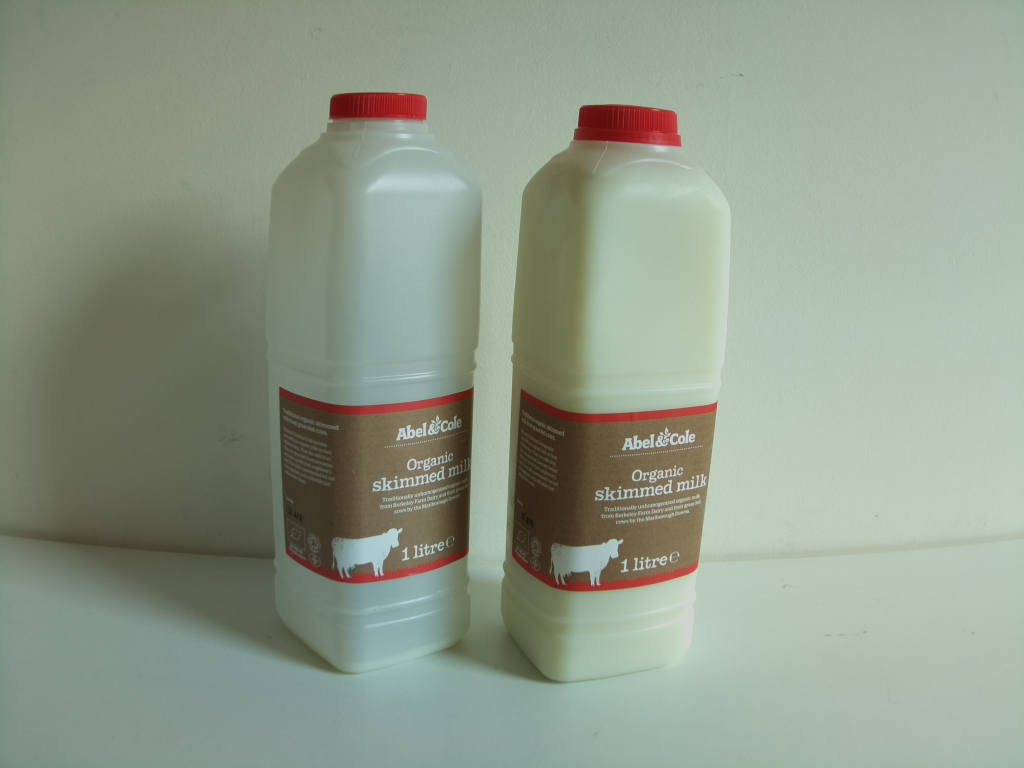milk: (501, 101, 740, 691), (261, 84, 482, 682)
